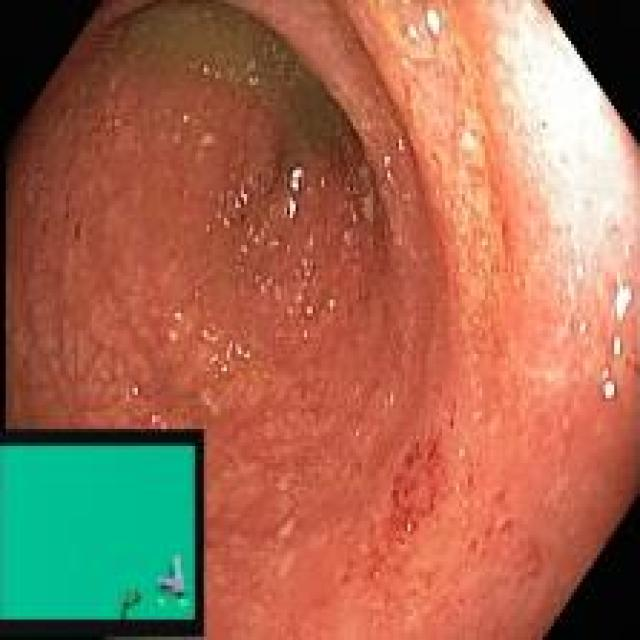ulcerative-colitis-grade-1: (6, 3, 640, 640)
